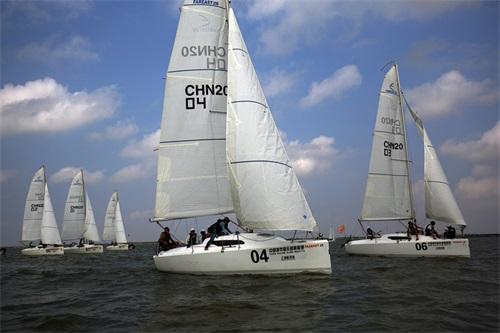Ship: (152, 1, 333, 274), (345, 65, 472, 258), (22, 165, 63, 259), (63, 171, 101, 255), (101, 193, 131, 251)
